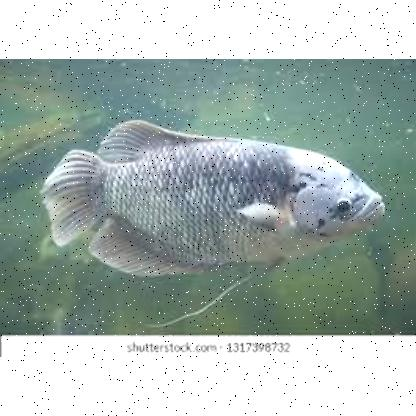gurame: (46, 120, 385, 278)
